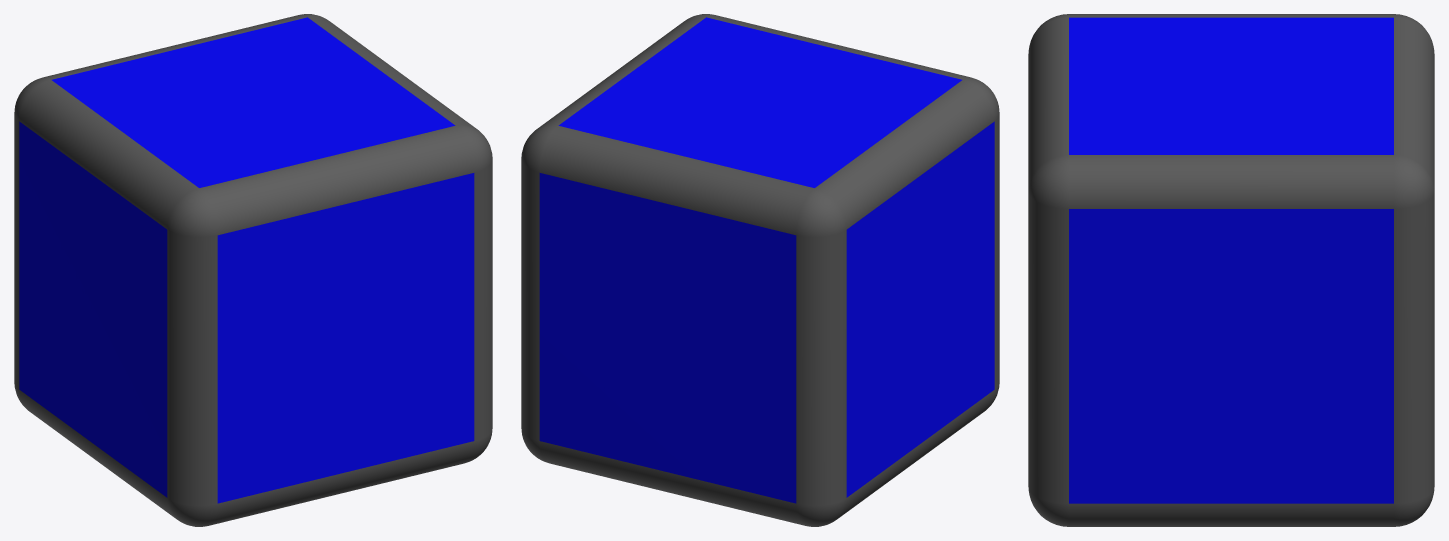
The model's file is stone4.glb.
3 renders of one model, left to right at view 1: azimuth 30°, elevation 25°; view 2: azimuth 150°, elevation 25°; view 3: azimuth 270°, elevation 25°, orthographic. The views are drawn at different scales.
Parts seen in each view (by area): view 1: Cube; view 2: Cube; view 3: Cube.
Boxes of the visible parts, x1,y1,x2,y2 form: Cube: [14, 14, 492, 526]; Cube: [521, 14, 999, 526]; Cube: [1028, 14, 1434, 526].
Size of the model in its own units: 1 by 1 by 1.
